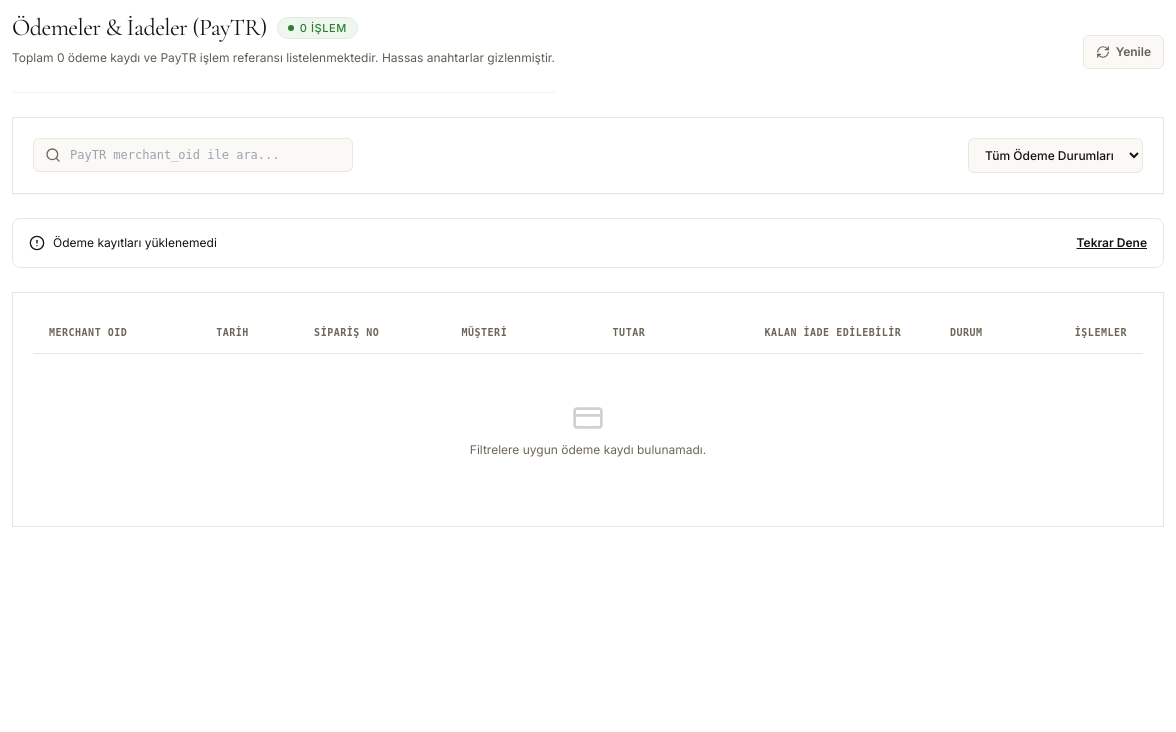
Test: AdminPaymentsPage Component (Phase 3.7) › renders error state and retries fetching
Expected: the text "Ödeme kayıtları yüklenemedi" is shown, [53,234,217,250]
What coordinates should you click on to do the following:
click the button "Tekrar Dene"
I would click on:
 (1112, 242)
Its box is [1076,234,1147,250].
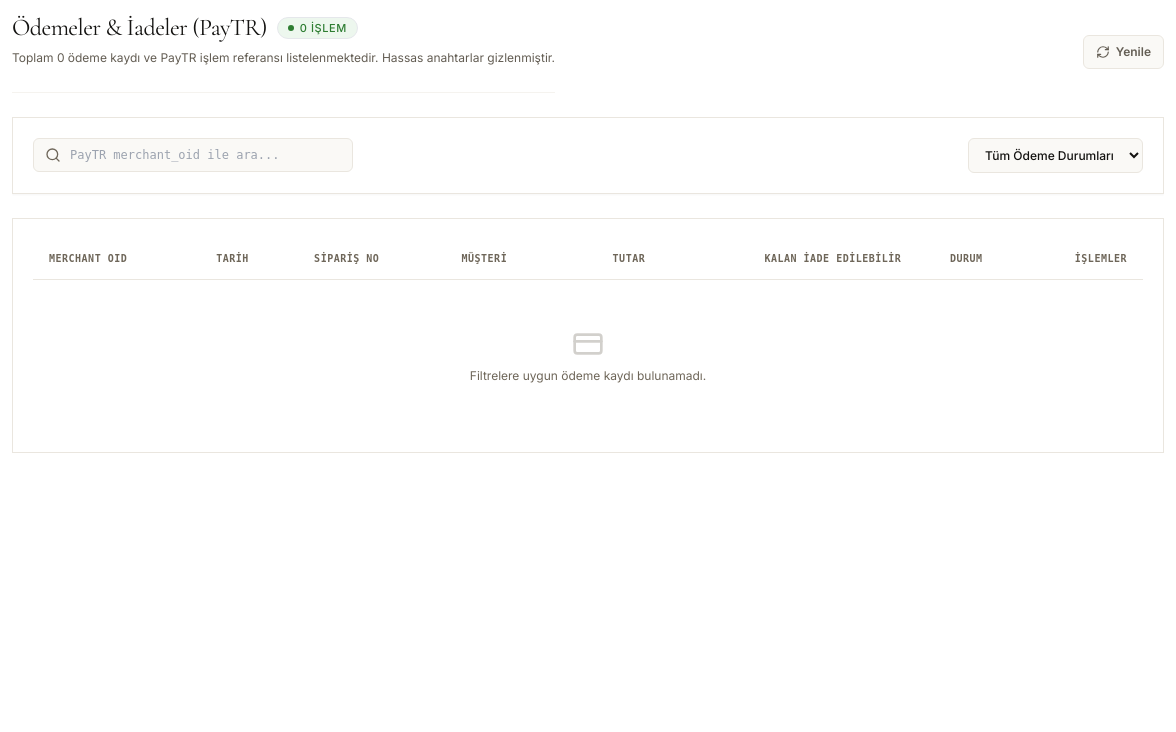
Now the text "Ödeme kayıtları yüklenemedi" is gone
